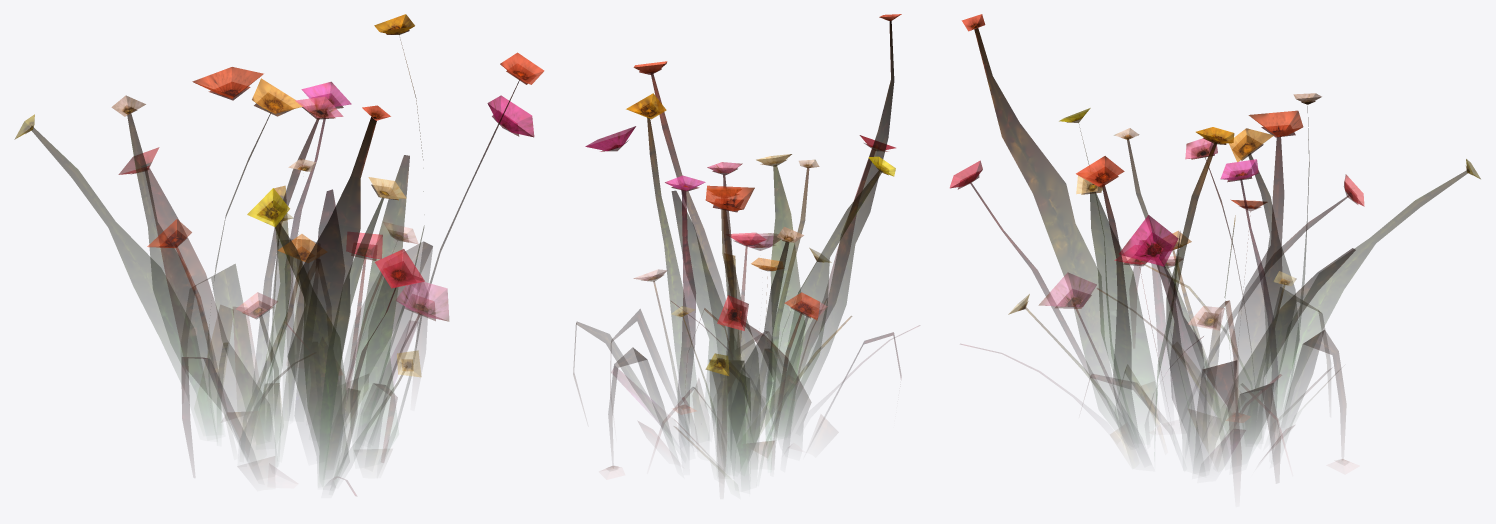
The model's file is everlasting.glb.
3 renders of one model, left to right at view 1: azimuth 30°, elevation 25°; view 2: azimuth 150°, elevation 25°; view 3: azimuth 270°, elevation 25°, orthographic. The views are drawn at different scales.
Parts seen in each view (by area): view 1: SM_ucvobbbia_VarA_LOD2; view 2: SM_ucvobbbia_VarA_LOD2; view 3: SM_ucvobbbia_VarA_LOD2.
Part boxes in pixels (box(x1,y1,x2,y2)): SM_ucvobbbia_VarA_LOD2: box(14, 14, 544, 495); SM_ucvobbbia_VarA_LOD2: box(573, 14, 919, 478); SM_ucvobbbia_VarA_LOD2: box(950, 14, 1480, 472).
Size of the model in its own units: 0.5561 by 0.6926 by 0.7807.
1 material, 1 textured.
